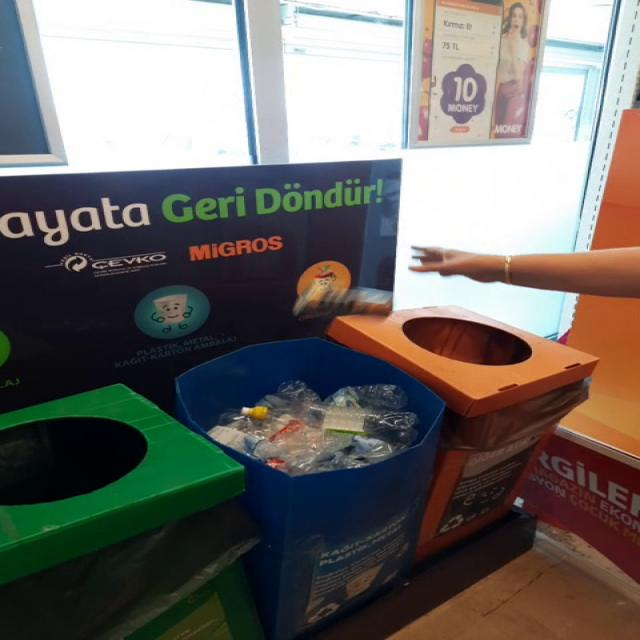bin: (176, 307, 599, 640), (0, 385, 263, 640)
